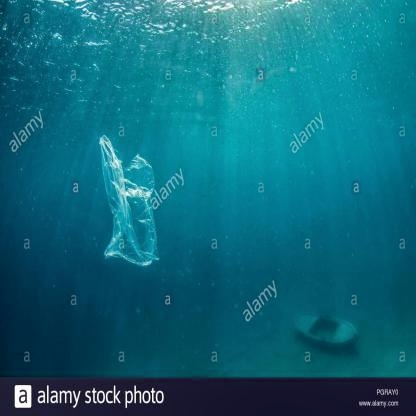pbag: (99, 135, 162, 268)
